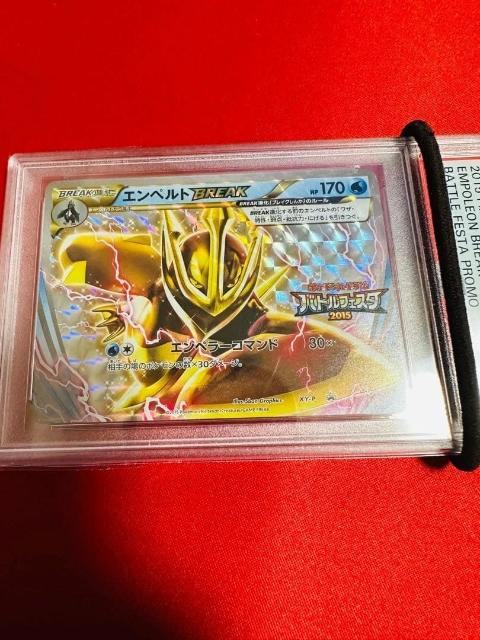Card: (24, 162, 418, 431)
Name: (121, 181, 255, 206)
